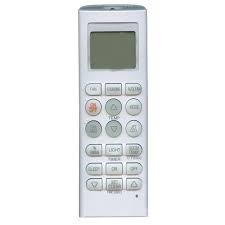remote control: (80, 7, 153, 216)
